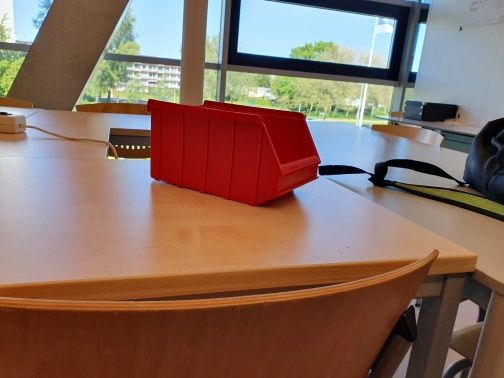tray_left: (147, 98, 285, 208)
